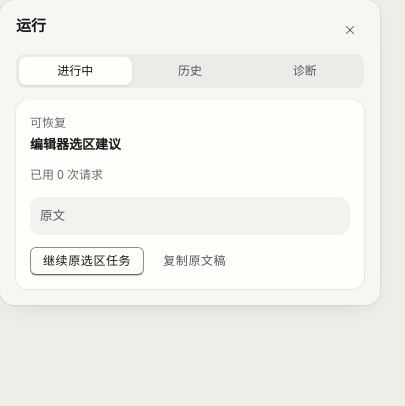
运行侧页 › 继续选区运行遇上下文超长：说明一直留到下一次操作，不被之后的刷新清掉
Later steps or results of the test are not shown.
Step 1. Click the button "继续原选区任务" → click(87, 261), box [30,247,144,275]
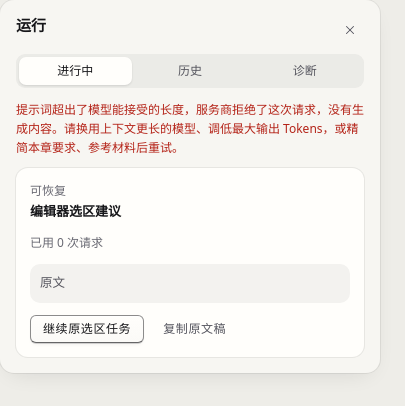
Result: the text "提示词超出了模型能接受的长度" is shown at [16,101,364,156]
